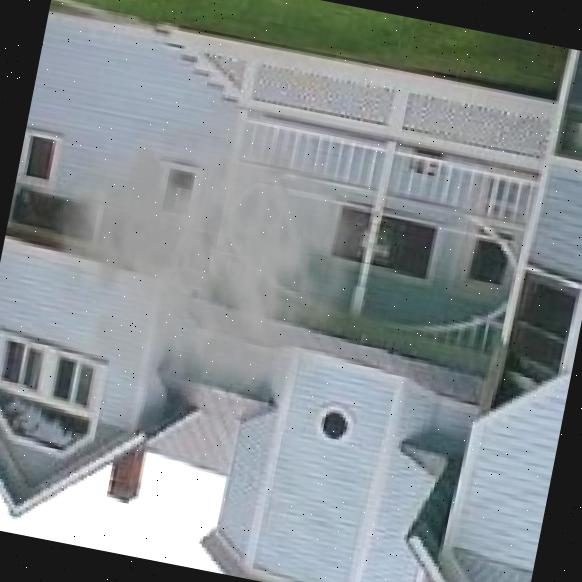smoke: (0, 65, 395, 476)
